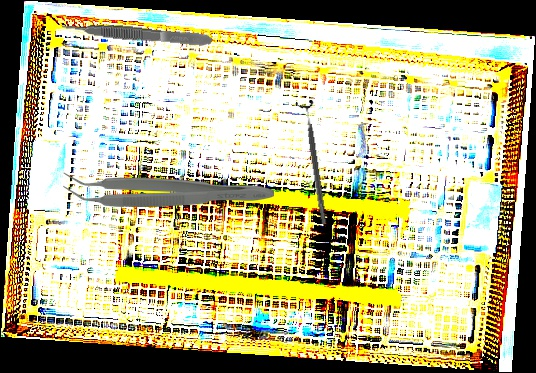Fixation Ring: (294, 99, 334, 226)
Tissue Forceps: (63, 172, 274, 207), (61, 18, 213, 49)
